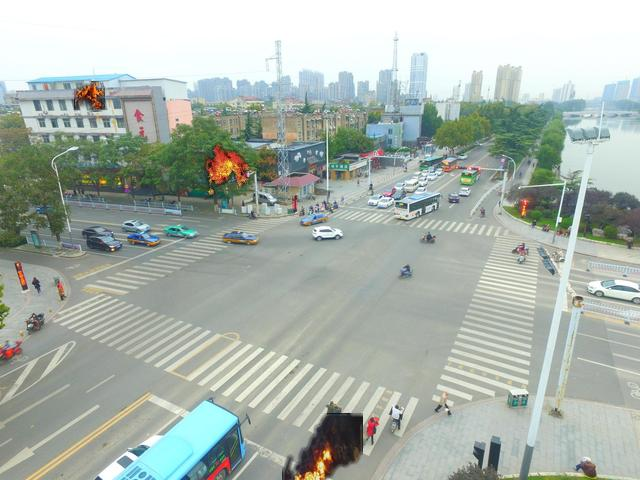fire: (282, 414, 362, 480), (203, 142, 251, 197), (75, 82, 103, 110)
